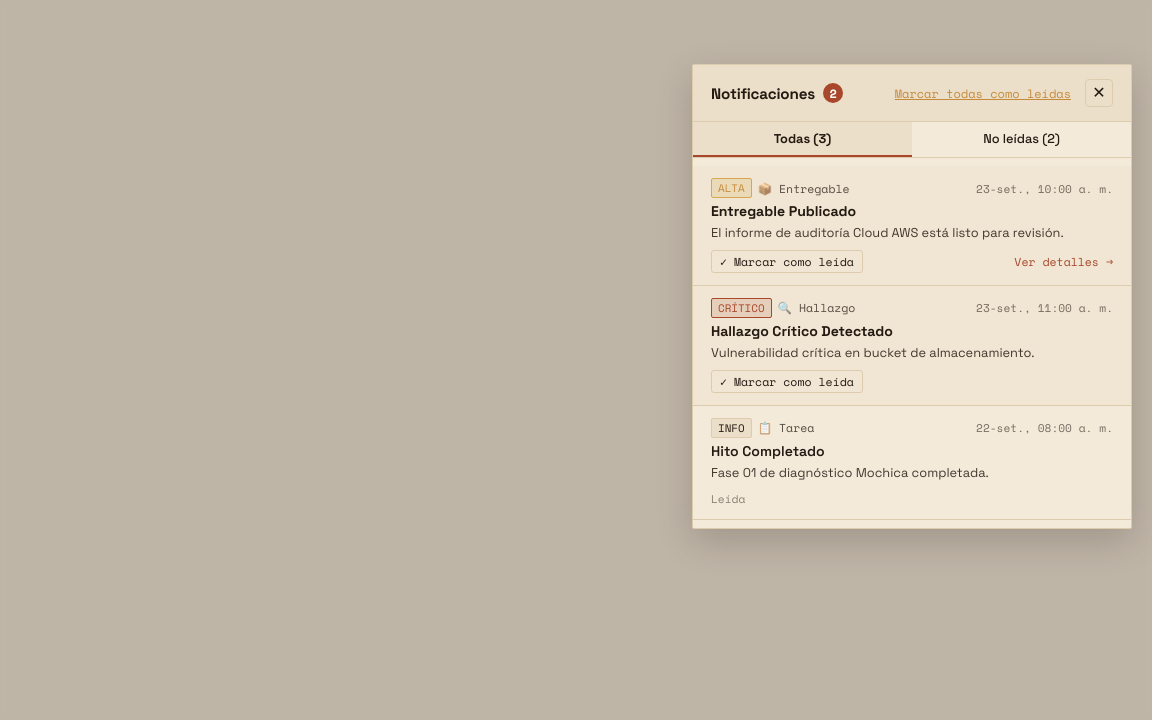
Test case: NotificationsPopover Component › Filtering (Todas vs No leídas) › permite filtrar para ver solo notificaciones no leídas
The width and height of the screenshot is (1152, 720).
Expected: the heading "Hito Completado" is shown, top-left (711, 442), bottom-right (825, 460)
Cambiar filtro a no leídas
Click the tab "No leídas (2)" at {"x": 1022, "y": 140}, box top-left (912, 122), bottom-right (1131, 157)
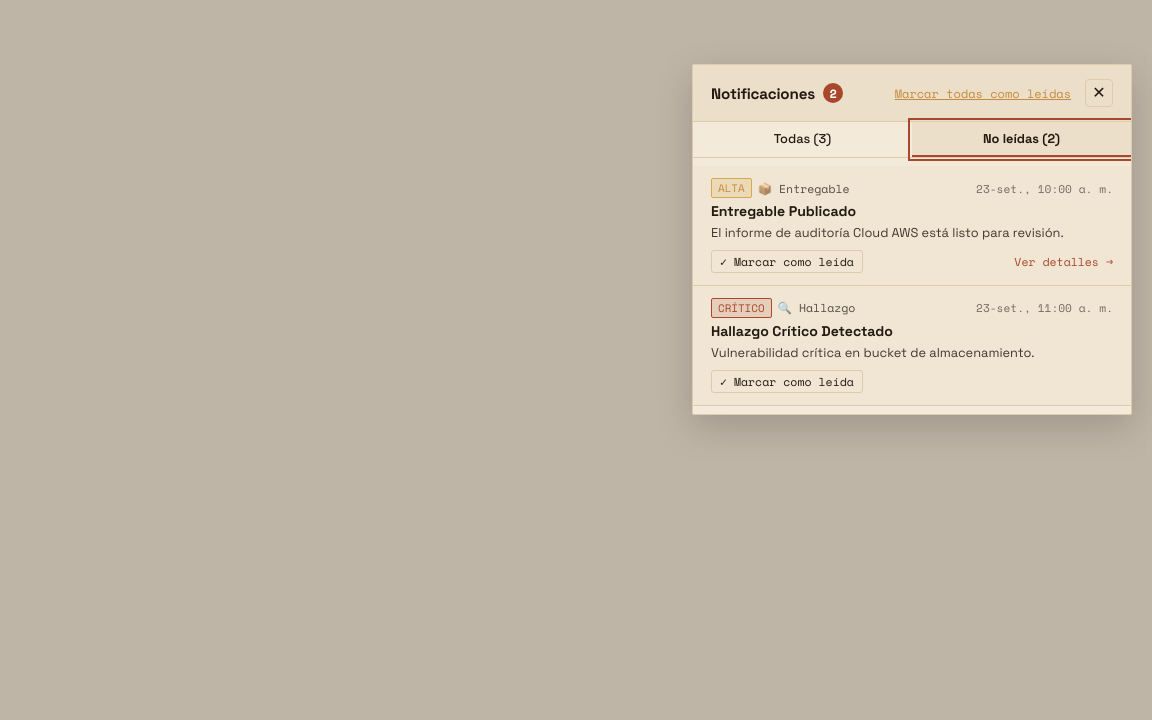
Expected: the heading "Entregable Publicado" is shown, top-left (711, 202), bottom-right (856, 220)
Expected: the heading "Hito Completado" is gone
